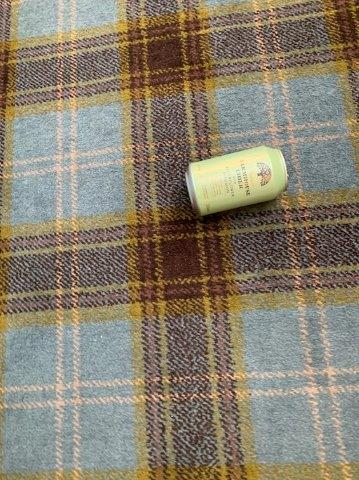kaleng: (187, 147, 287, 215)
